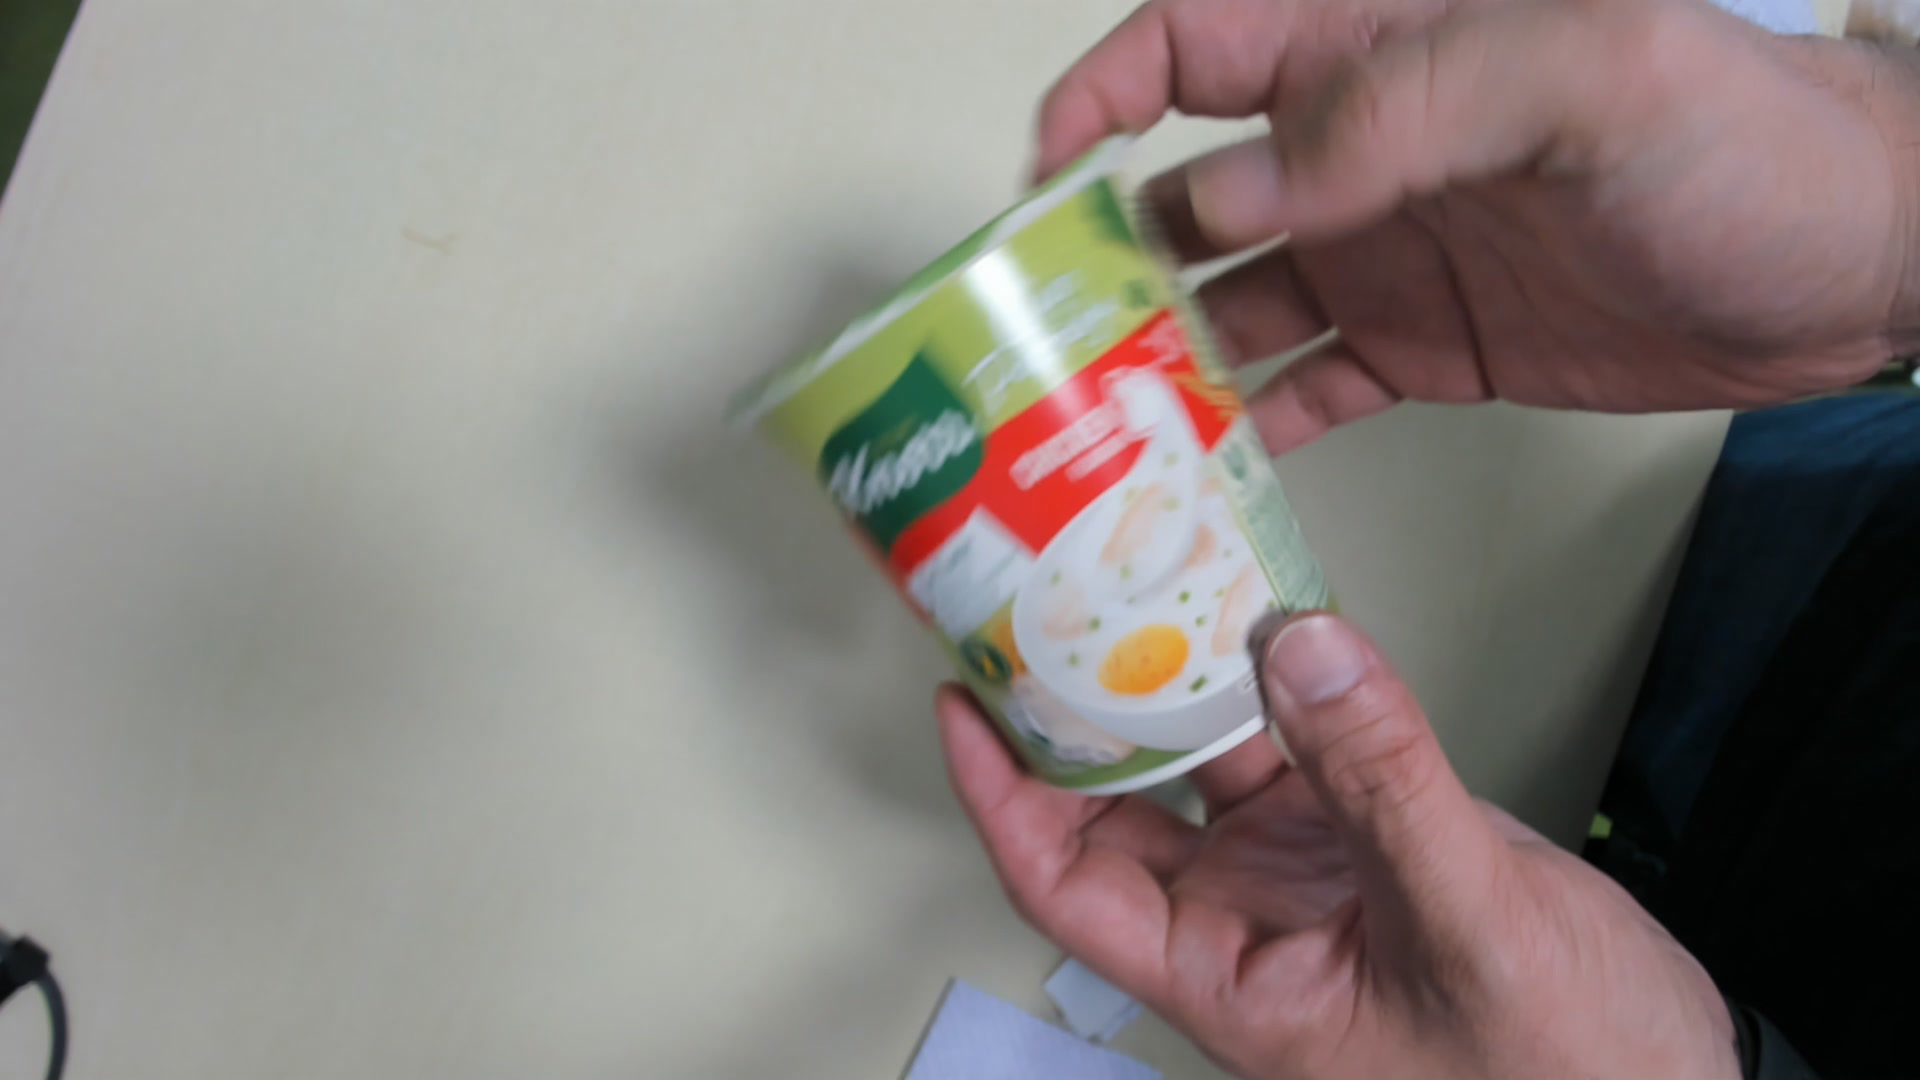InstantMeals_100-199g_Halal_NonHealthy: (736, 128, 1335, 807)
